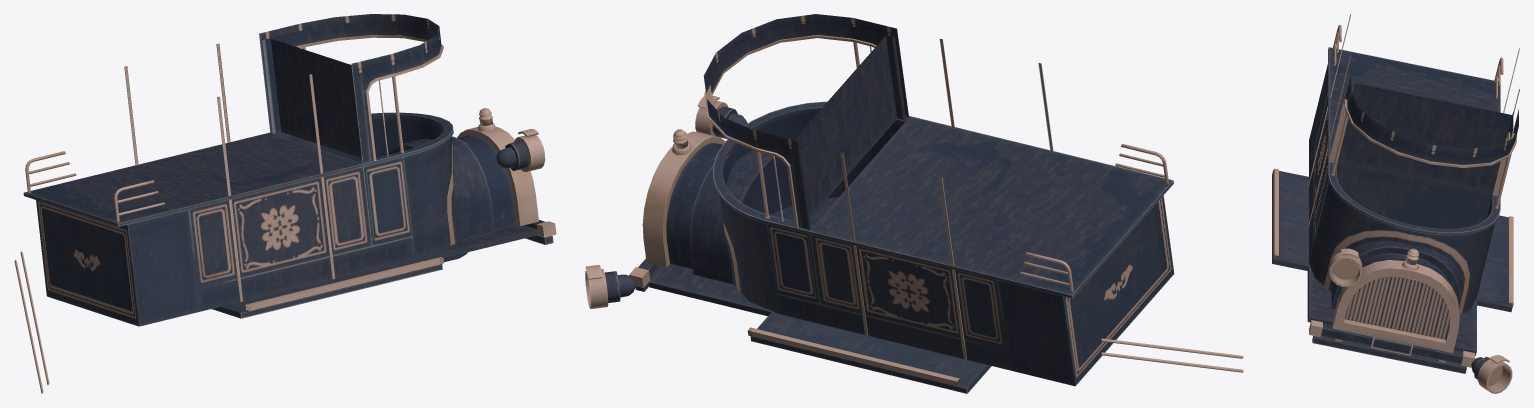
3 renders of one model, left to right at view 1: azimuth 30°, elevation 25°; view 2: azimuth 150°, elevation 25°; view 3: azimuth 270°, elevation 25°, orthographic. The views are drawn at different scales.
Visible parts, largest first — view 1: main_head_low; view 2: main_head_low; view 3: main_head_low.
Boxes of the visible parts, x1=… form: main_head_low: x1=14, y1=14, x2=556, y2=393; main_head_low: x1=585, y1=14, x2=1243, y2=393; main_head_low: x1=1272, y1=14, x2=1519, y2=393.
Size of the model in its own units: 521 by 234 by 230.
